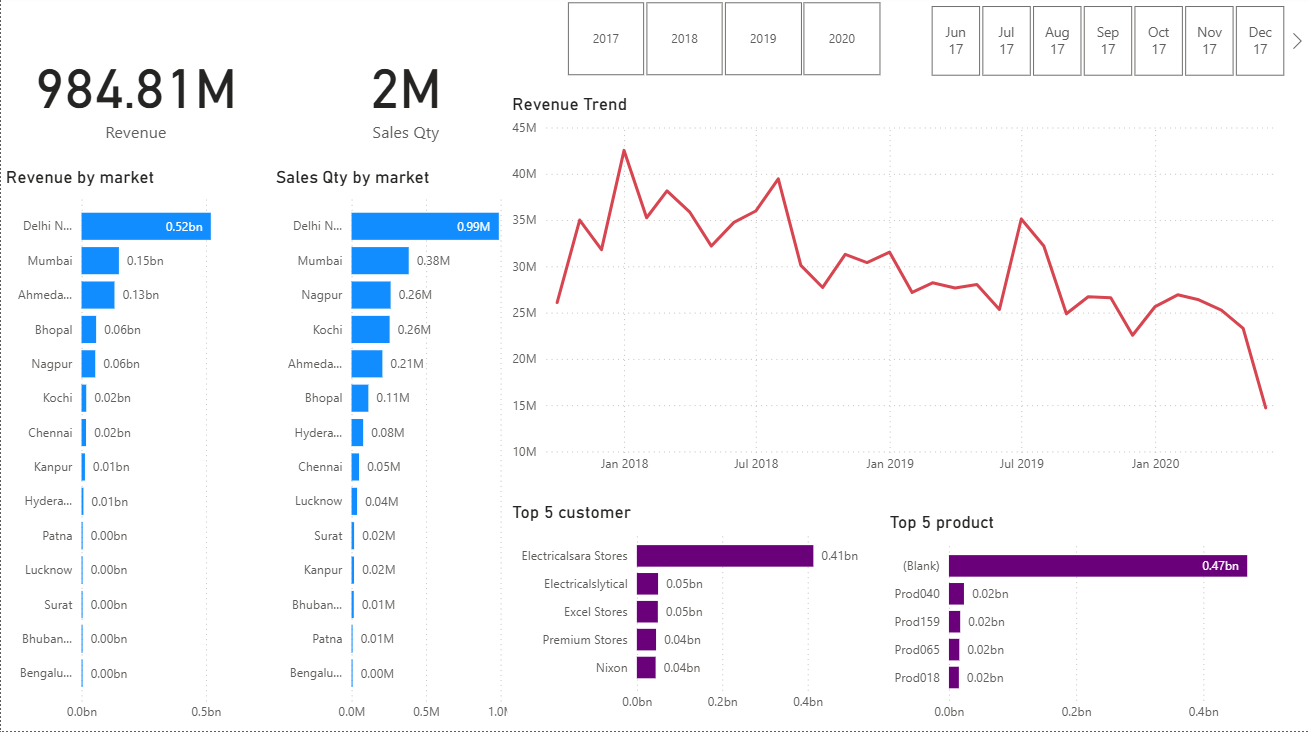

What the dashboard file says about the page in this screenshot:
{"tool":"powerbi","page":{"name":"Page 1","canvas":[1280,720],"ordinal":0},"visuals":[{"type":"card","fields":{"Values":["basemeasure.Revenue"]},"box":[0,0,264.2,190.9],"z":0},{"type":"card","fields":{"Values":["basemeasure.Sales Qty"]},"box":[264.2,0,264.2,190.9],"z":1000},{"type":"clusteredBarChart","title":"Revenue by market","fields":{"Y":["basemeasure.Revenue"],"Category":["sales markets.markets_name"]},"box":[0,167,264.2,552.3],"z":2000},{"type":"clusteredBarChart","title":"Sales Qty by market","fields":{"Y":["basemeasure.Sales Qty"],"Category":["sales markets.markets_name"]},"box":[264.2,167,264.2,552.3],"z":3000},{"type":"slicer","fields":{"Values":["sales date.year"]},"box":[528.3,0,355.8,85.6],"z":4000},{"type":"slicer","fields":{"Values":["sales date.cy_date"]},"box":[884.7,3.4,395.5,81.8],"z":5000},{"type":"clusteredBarChart","title":"Top 5 customer","fields":{"Y":["basemeasure.Revenue"],"Category":["sales customers.custmer_name"]},"box":[495.4,495.4,369.1,214.1],"z":6000},{"type":"clusteredBarChart","title":"Top 5 product","fields":{"Y":["basemeasure.Revenue"],"Category":["sales products.product_code"]},"box":[864.5,505,415.8,214.1],"z":7000},{"type":"lineChart","title":"Revenue Trend","fields":{"Y":["basemeasure.Revenue"],"Category":["sales date.cy_date"]},"box":[495.4,96.1,771.2,380.1],"z":7001}]}

Visuals, with their boxes in screenshot pixels (x1, y1, x2, y2), scaled from the page's 1280x720 canvas onto the 1310x732 screenshot:
card - basemeasure.Revenue: bbox(0, 0, 270, 194)
card - basemeasure.Sales Qty: bbox(270, 0, 541, 194)
"Revenue by market" clusteredBarChart: bbox(0, 170, 270, 731)
"Sales Qty by market" clusteredBarChart: bbox(270, 170, 541, 731)
slicer - sales date.year: bbox(541, 0, 905, 87)
slicer - sales date.cy_date: bbox(905, 3, 1309, 87)
"Top 5 customer" clusteredBarChart: bbox(507, 504, 885, 721)
"Top 5 product" clusteredBarChart: bbox(885, 513, 1309, 731)
"Revenue Trend" lineChart: bbox(507, 98, 1296, 484)
